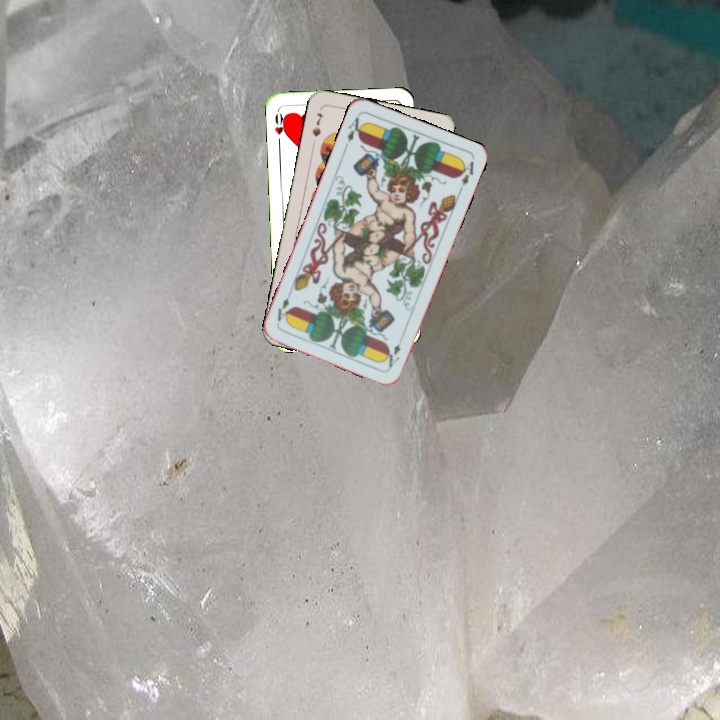EA: (343, 111, 367, 145), (382, 340, 403, 370)
HO: (271, 107, 289, 147)
S7: (308, 109, 326, 139)
